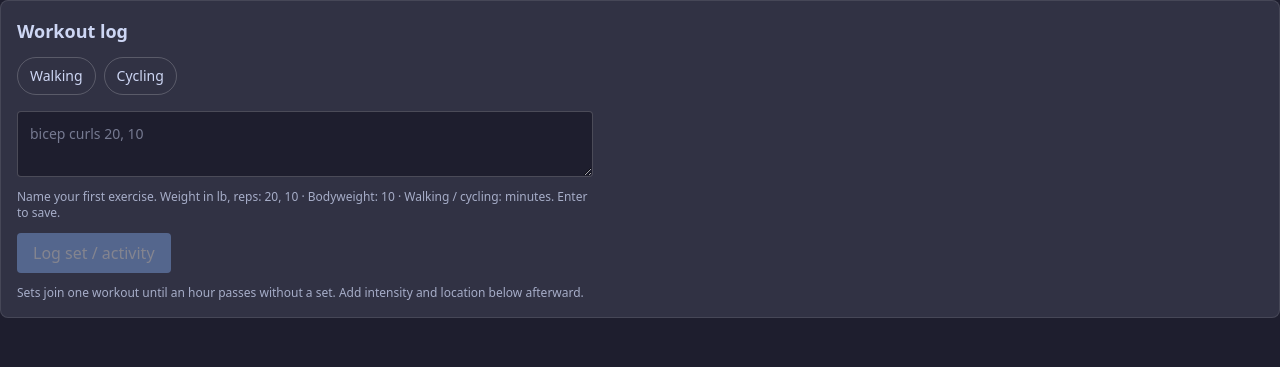
Test: keeps the text after a failed save
Type "squats 10" into the text box named "Exercise entry" at (305, 144), box 17,111 -> 593,177
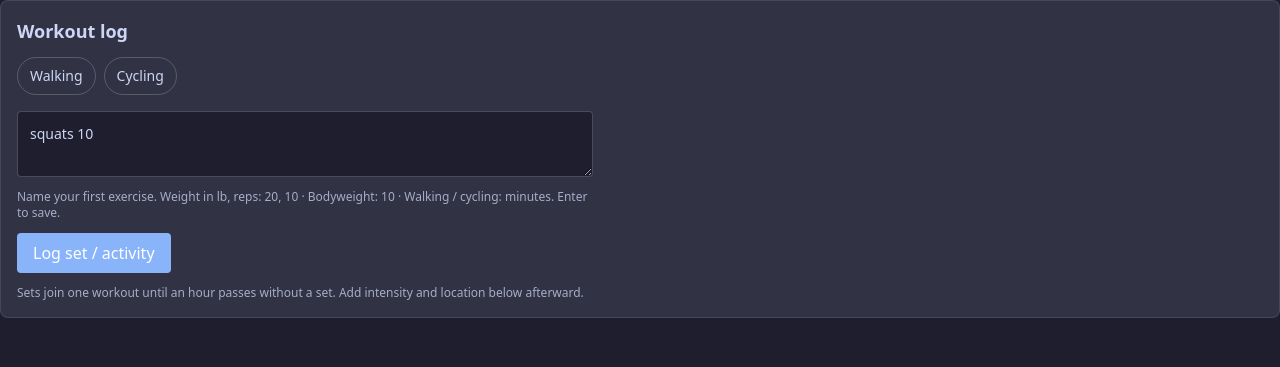
Press Enter in the text box named "Exercise entry", box 17,111 -> 593,177
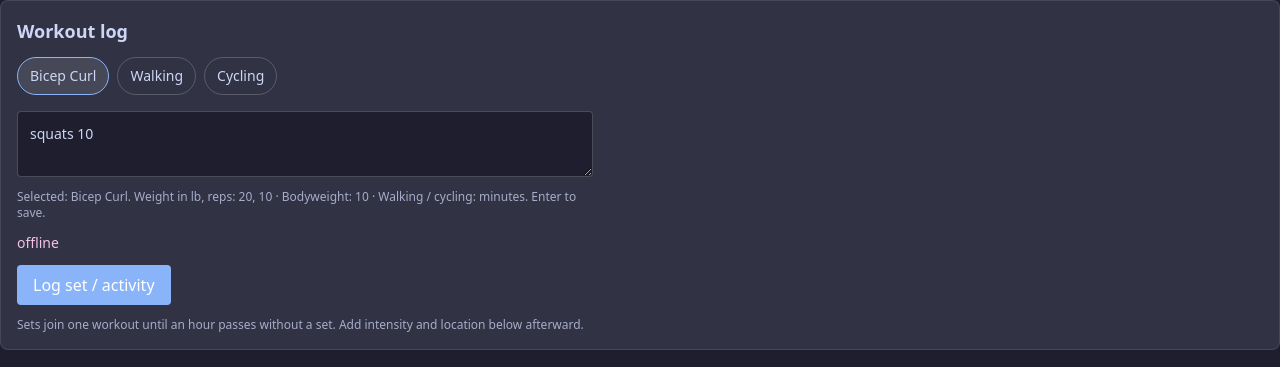
Result: the message "offline" is shown at 17,233 -> 59,252
